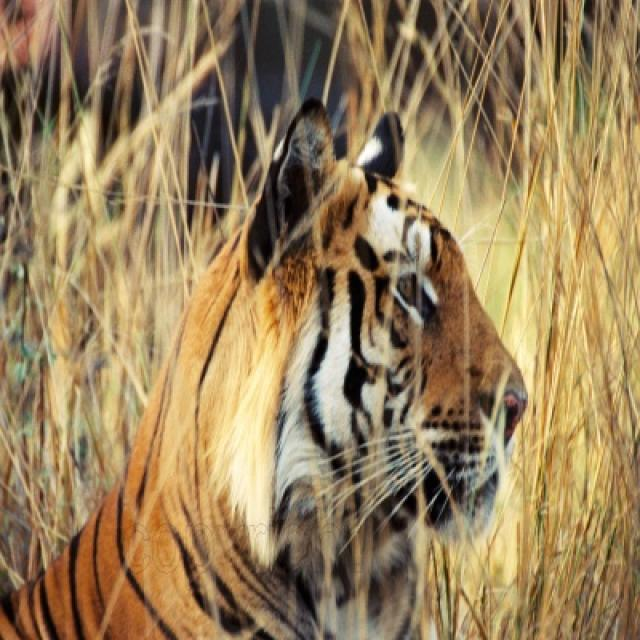Tiger: (0, 102, 531, 637)
